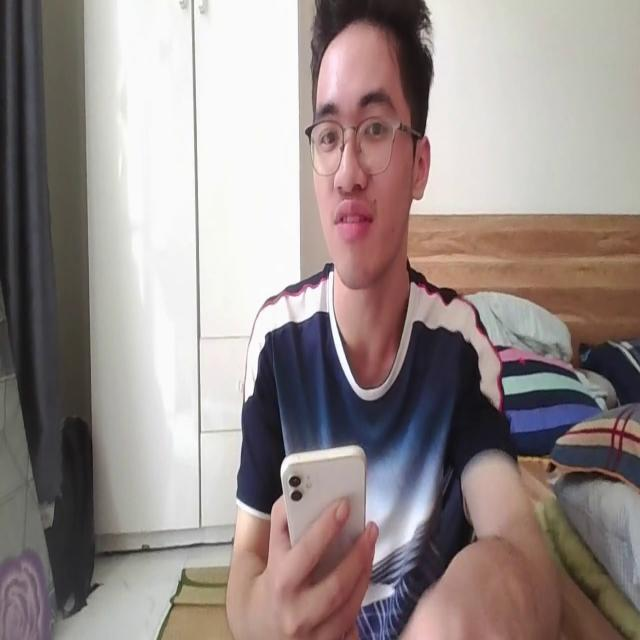phone: (279, 443, 374, 587)
student: (223, 0, 560, 640)
